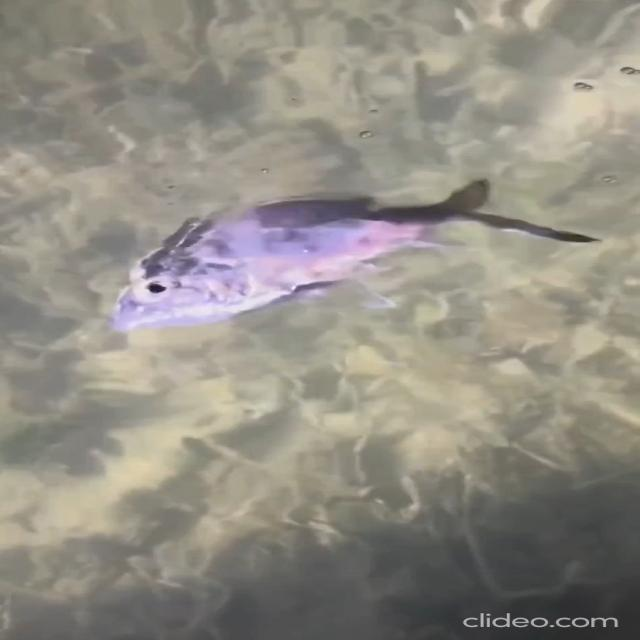fish: (75, 174, 618, 340)
